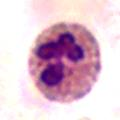neutrophil: (24, 23, 103, 101)
